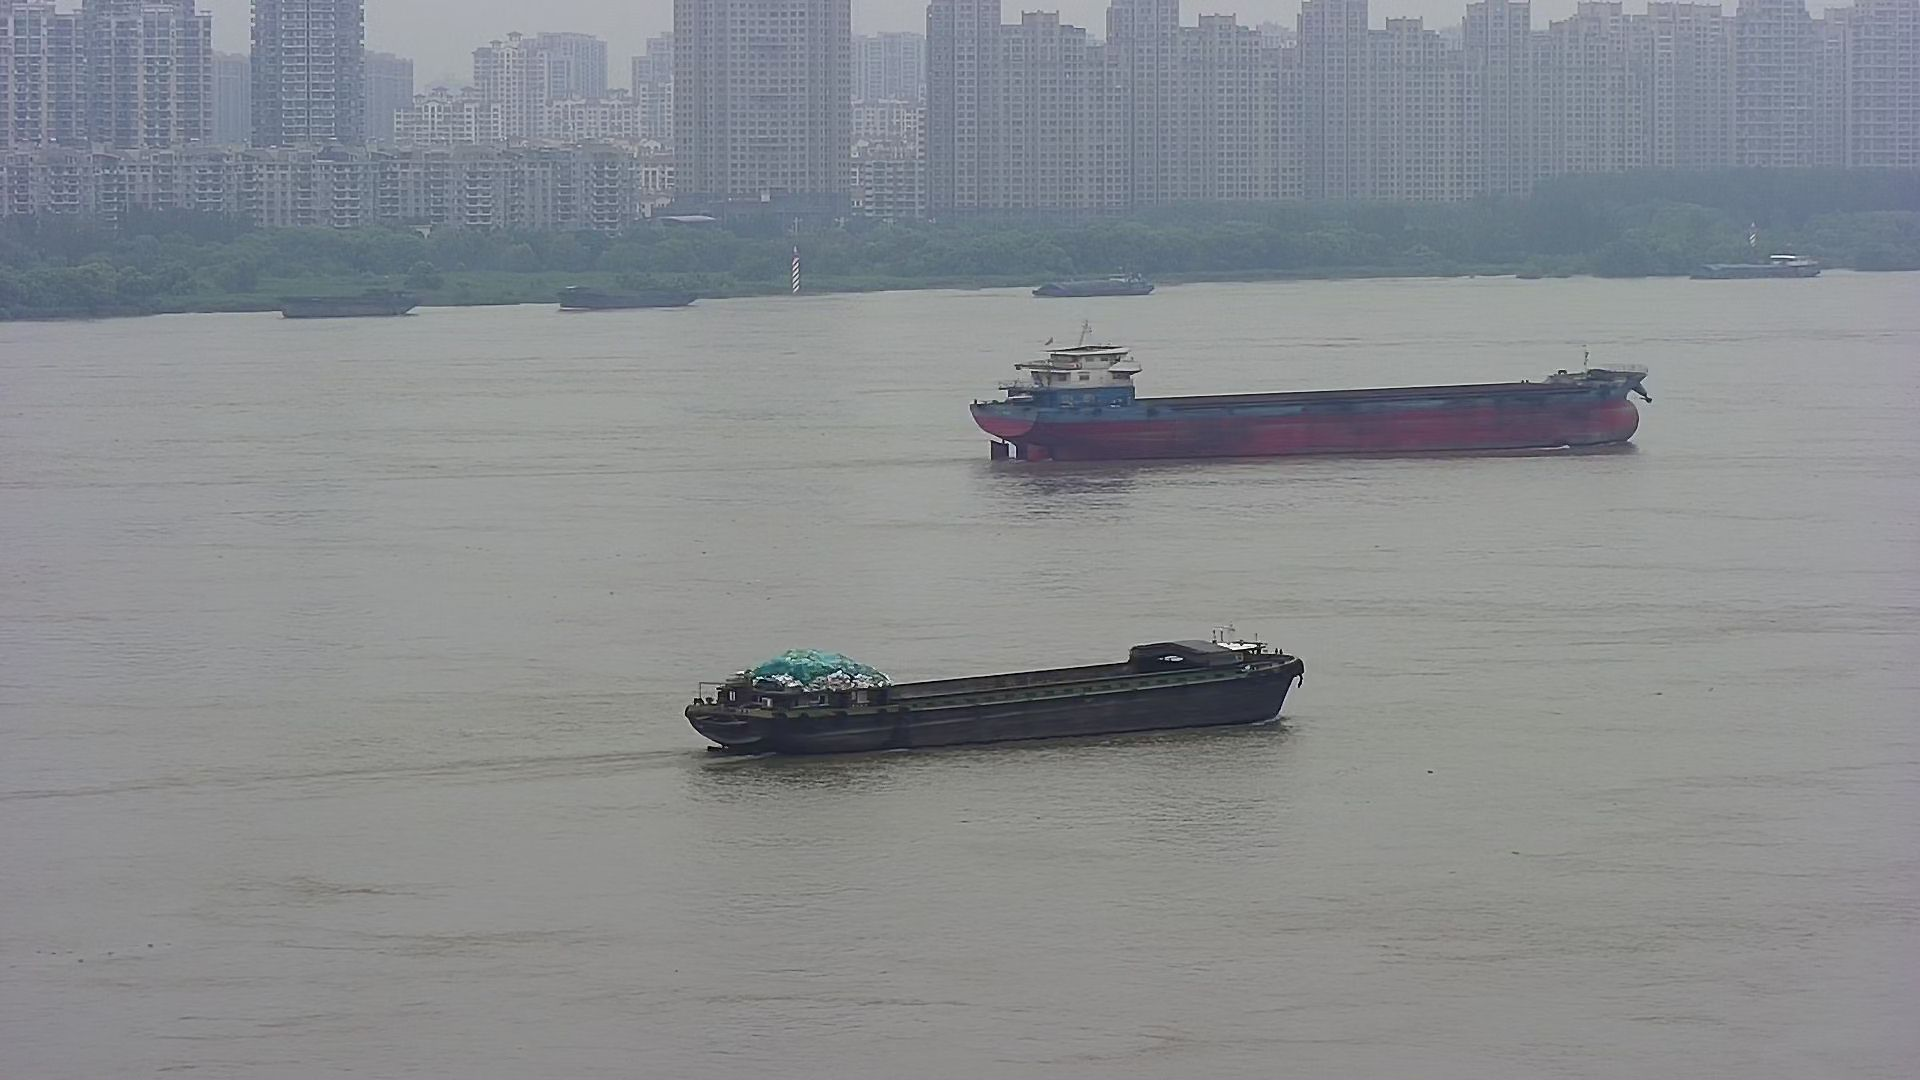ship: (622, 596, 1336, 777), (959, 335, 1663, 473), (262, 277, 434, 328), (1673, 243, 1840, 291), (537, 273, 716, 315), (1026, 265, 1156, 306)
